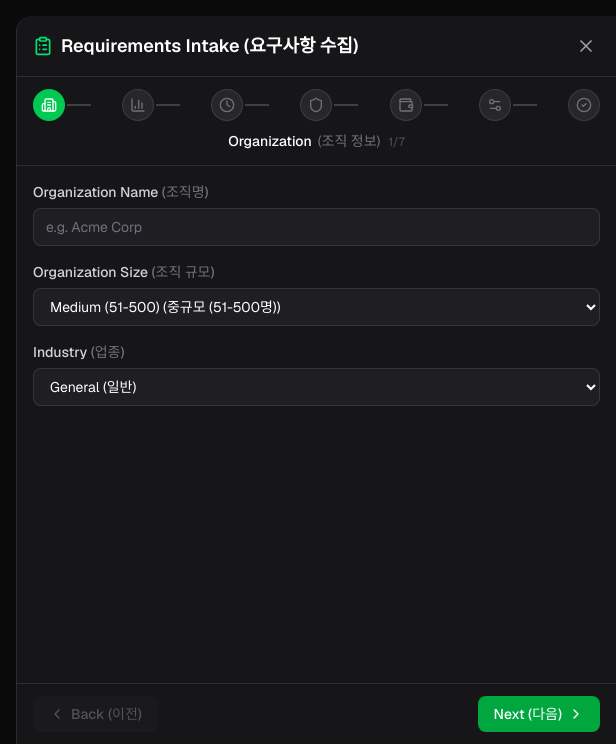
Scenario: RequirementsWizardPanel › navigates forward through steps on Next click
The width and height of the screenshot is (616, 744).
Check: the text "1/7" is shown, box [388,134,405,150]
Click the button "Next (다음)".
click(539, 714)  # box [478,696,600,732]
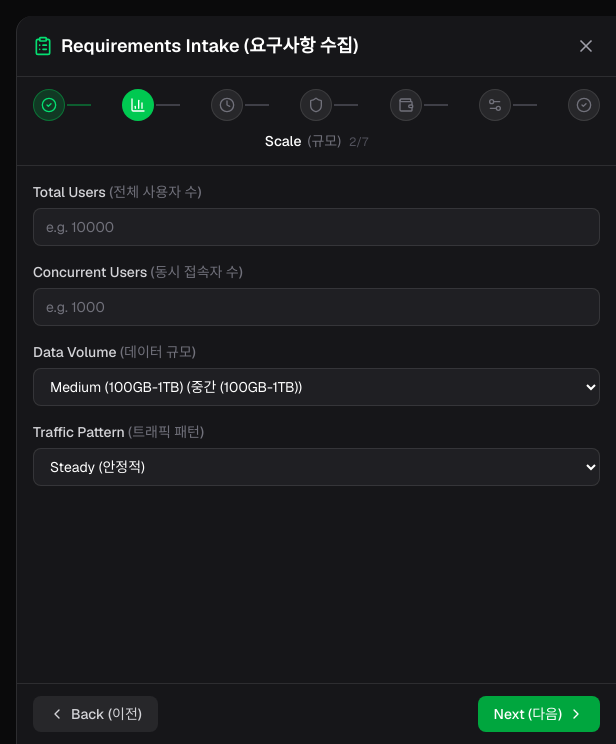
Check: the text "2/7" is shown, box [349,134,368,150]
Check: the text "Total Users (전체 사용자 수)" is shown, box [33,183,201,201]
